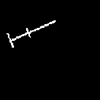double_crochet: (7, 21, 54, 46)
